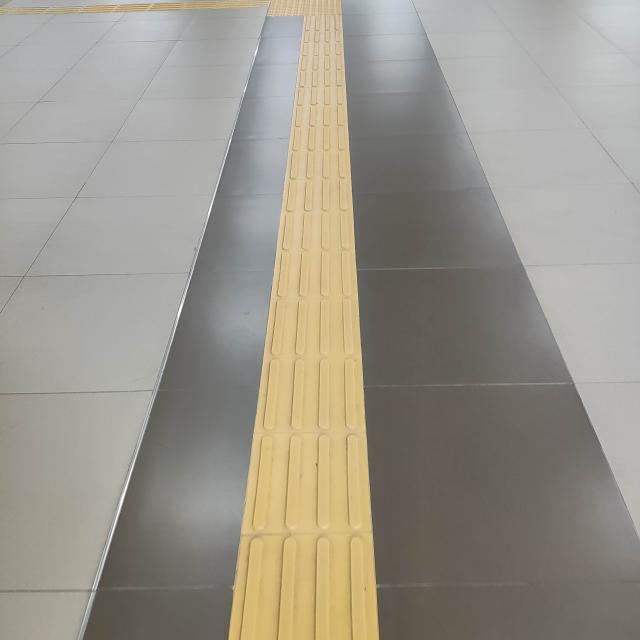lurus: (230, 44, 391, 640)
